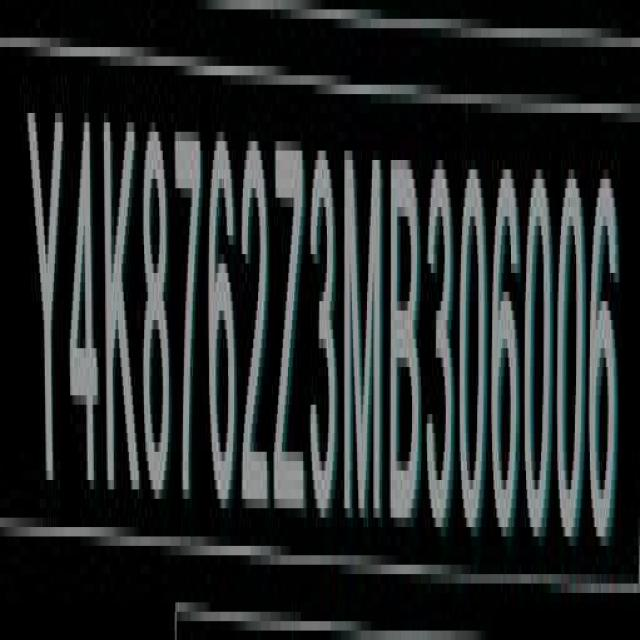0: (554, 168, 586, 550), (523, 168, 552, 543), (458, 158, 486, 539)
2: (241, 137, 269, 526)
3: (306, 125, 342, 537), (428, 160, 455, 539)
4: (67, 102, 102, 506)
6: (206, 122, 237, 526), (591, 175, 623, 550), (492, 165, 523, 542)
7: (177, 123, 206, 518)
8: (143, 119, 174, 513)
B: (391, 152, 424, 532)
K: (105, 110, 138, 510)
M: (344, 145, 385, 532)
Y: (28, 98, 68, 498)
Z: (275, 132, 306, 526)
